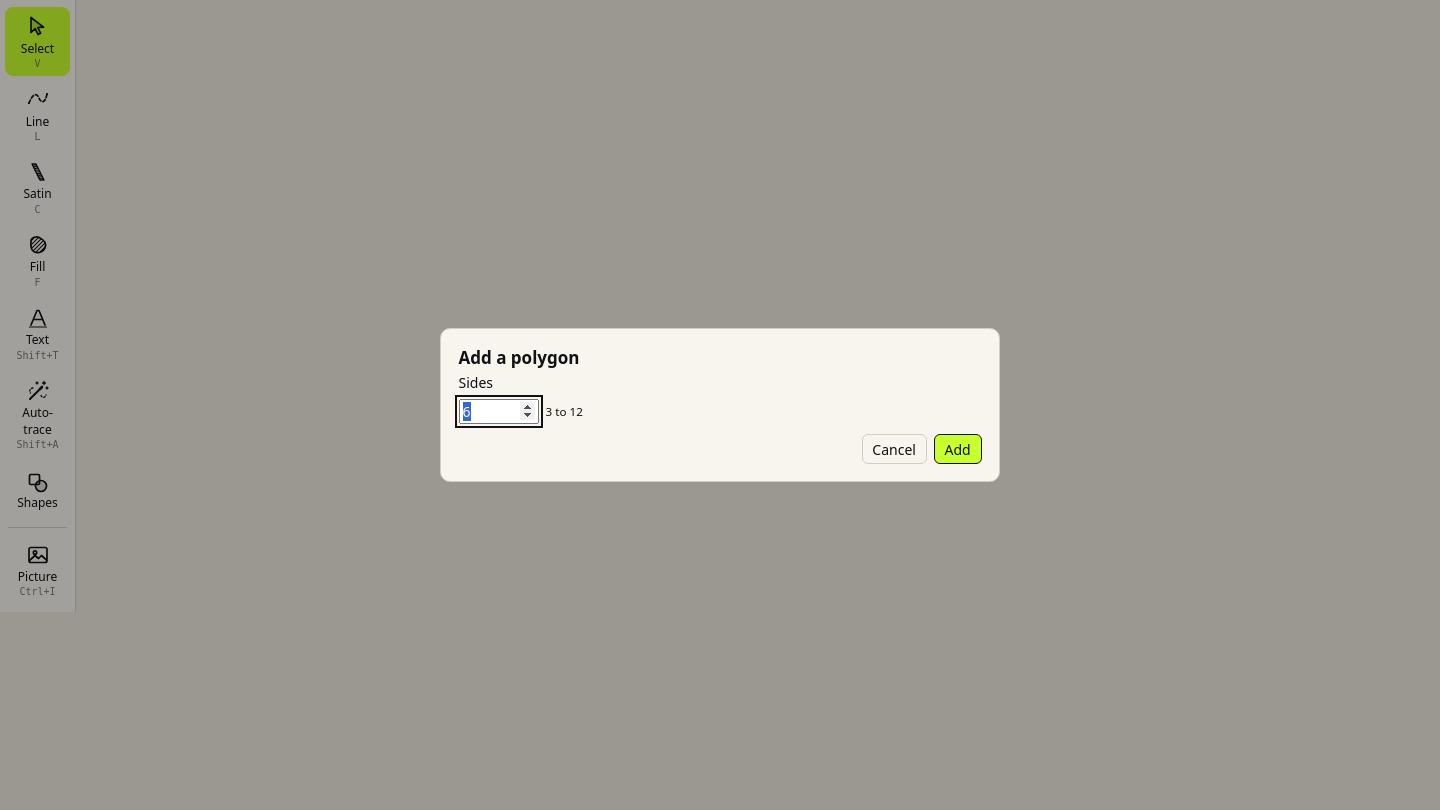
Scenario: the polygon dialog › leaves Enter on a button to that button, so nothing is added twice
The width and height of the screenshot is (1440, 810).
Press Enter in the button "Cancel", box [862,434,927,464]
Press Enter in the button "Add", box [934,434,982,464]
Click the button "Add" at (958, 449), box [934,434,982,464]
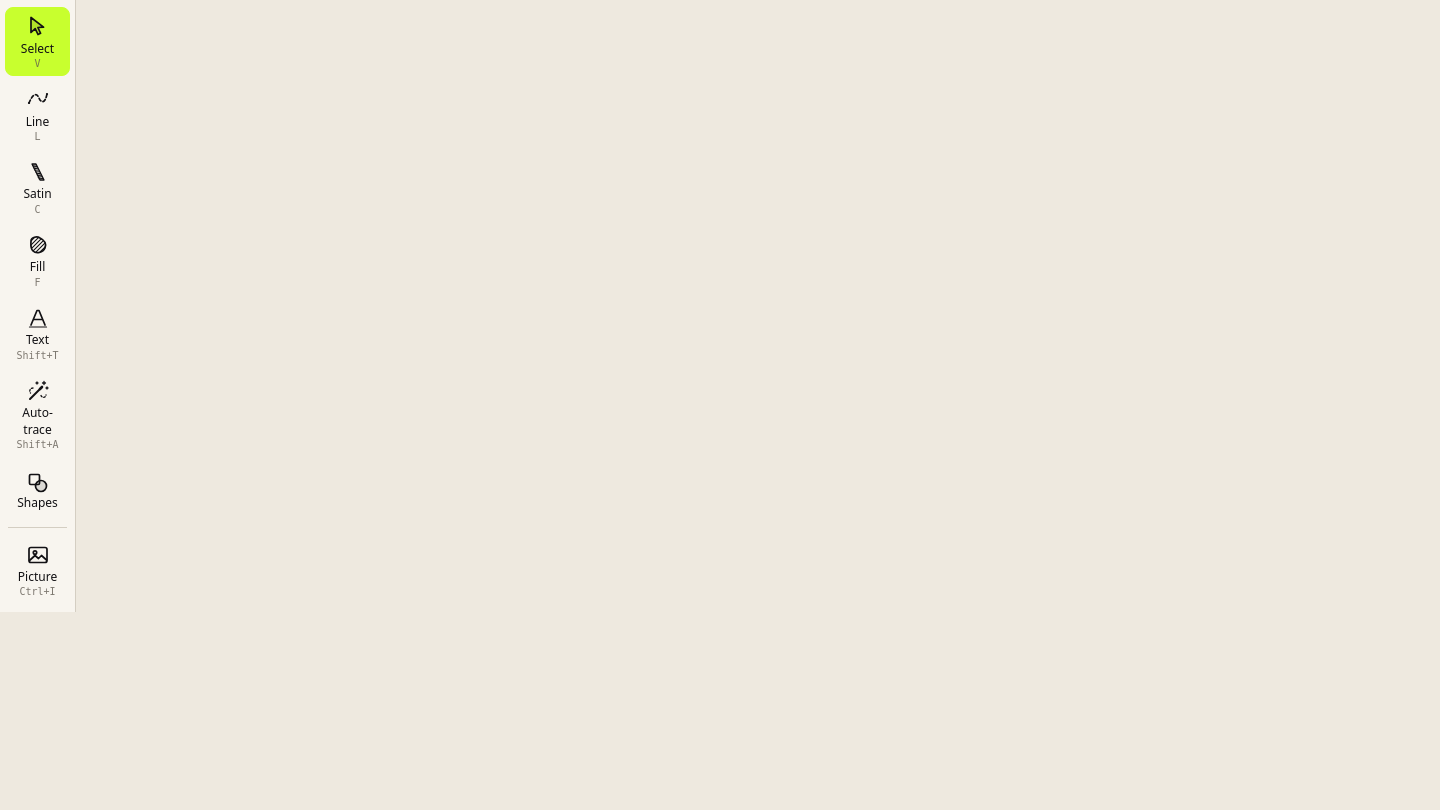
Expected: the dialog is gone
